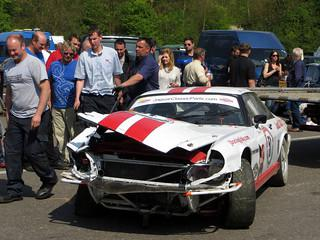Headlight-Damage: (170, 148, 233, 186), (61, 140, 110, 188)
bonnet-dent: (74, 105, 226, 156)
front-bumper-dent: (90, 141, 193, 221)
